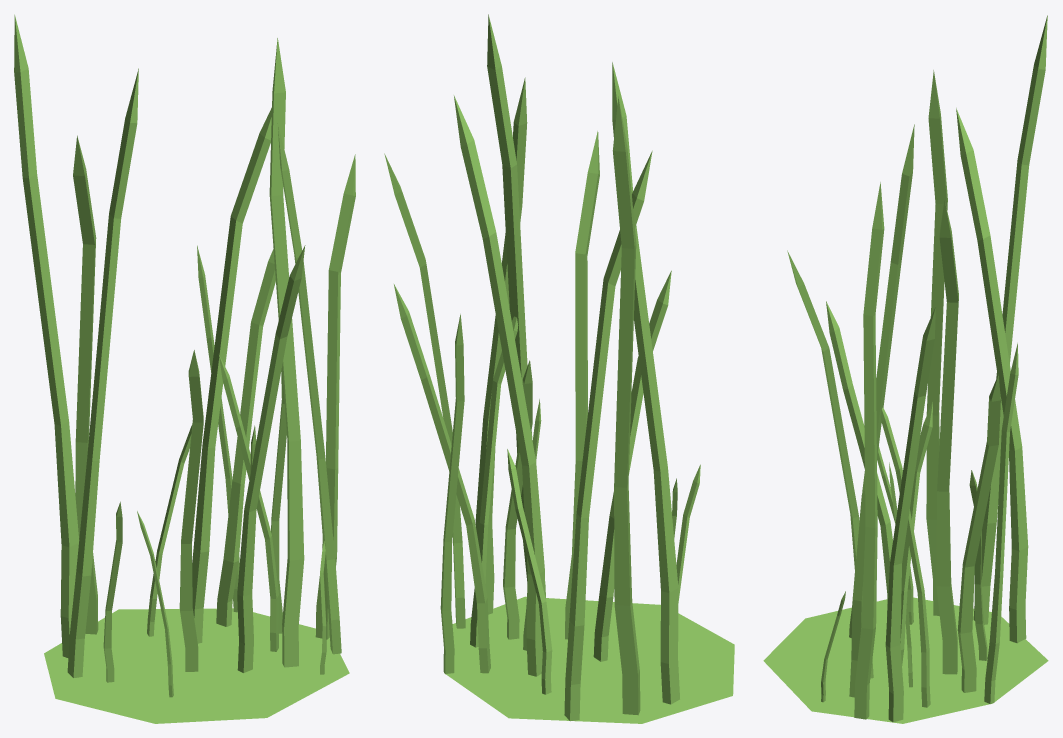
Rendered from grass.fbx.
The picture shows the model from 3 angles, left to right: view 1: azimuth 30°, elevation 25°; view 2: azimuth 150°, elevation 25°; view 3: azimuth 270°, elevation 25°; orthographic projection. The views are drawn at different scales.
Parts seen in each view (by area): view 1: Plane, Plane|gr.001|Dupli|5.0.0.0.0.0.0.0.0.0, Plane|gr.001|Dupli|17.0.0.0.0.0.0.0.0.0, Plane|gr.001|Dupli|2.0.0.0.0.0.0.0.0.0, Plane|gr.002|Dupli|10.0.0.0.0.0.0.0.0.0, Plane|gr.002|Dupli|13.0.0.0.0.0.0.0.0.0, Plane|gr.002|Dupli|4.0.0.0.0.0.0.0.0.0, Plane|gr.002|Dupli|16.0.0.0.0.0.0.0.0.0, Plane|gr|Dupli|9.0.0.0.0.0.0.0.0.0, Plane|gr.001|Dupli|14.0.0.0.0.0.0.0.0.0, Plane|gr|Dupli|0.0.0.0.0.0.0.0.0.0, Plane|gr|Dupli|12.0.0.0.0.0.0.0.0.0 (+6 smaller); view 2: Plane, Plane|gr.001|Dupli|5.0.0.0.0.0.0.0.0.0, Plane|gr.002|Dupli|10.0.0.0.0.0.0.0.0.0, Plane|gr.001|Dupli|2.0.0.0.0.0.0.0.0.0, Plane|gr.002|Dupli|4.0.0.0.0.0.0.0.0.0, Plane|gr.001|Dupli|17.0.0.0.0.0.0.0.0.0, Plane|gr.002|Dupli|13.0.0.0.0.0.0.0.0.0, Plane|gr|Dupli|9.0.0.0.0.0.0.0.0.0, Plane|gr.001|Dupli|14.0.0.0.0.0.0.0.0.0, Plane|gr.002|Dupli|16.0.0.0.0.0.0.0.0.0, Plane|gr.001|Dupli|8.0.0.0.0.0.0.0.0.0, Plane|gr|Dupli|0.0.0.0.0.0.0.0.0.0 (+4 smaller); view 3: Plane, Plane|gr.002|Dupli|4.0.0.0.0.0.0.0.0.0, Plane|gr.001|Dupli|14.0.0.0.0.0.0.0.0.0, Plane|gr.002|Dupli|10.0.0.0.0.0.0.0.0.0, Plane|gr.001|Dupli|5.0.0.0.0.0.0.0.0.0, Plane|gr.002|Dupli|16.0.0.0.0.0.0.0.0.0, Plane|gr.001|Dupli|2.0.0.0.0.0.0.0.0.0, Plane|gr.001|Dupli|17.0.0.0.0.0.0.0.0.0, Plane|gr|Dupli|9.0.0.0.0.0.0.0.0.0, Plane|gr.001|Dupli|8.0.0.0.0.0.0.0.0.0, Plane|gr.002|Dupli|13.0.0.0.0.0.0.0.0.0, Plane|gr|Dupli|0.0.0.0.0.0.0.0.0.0 (+6 smaller).
Boxes of the visible parts, box(x1,y1,x2,y2) form: Plane: box(44, 608, 349, 723); Plane|gr.001|Dupli|5.0.0.0.0.0.0.0.0.0: box(14, 14, 79, 657); Plane|gr.001|Dupli|17.0.0.0.0.0.0.0.0.0: box(269, 38, 304, 667); Plane|gr.001|Dupli|2.0.0.0.0.0.0.0.0.0: box(67, 68, 138, 678); Plane|gr.002|Dupli|10.0.0.0.0.0.0.0.0.0: box(192, 107, 271, 643); Plane|gr.002|Dupli|13.0.0.0.0.0.0.0.0.0: box(237, 245, 305, 672); Plane|gr.002|Dupli|4.0.0.0.0.0.0.0.0.0: box(73, 135, 98, 634); Plane|gr.002|Dupli|16.0.0.0.0.0.0.0.0.0: box(315, 154, 355, 639); Plane|gr|Dupli|9.0.0.0.0.0.0.0.0.0: box(216, 249, 275, 626); Plane|gr.001|Dupli|14.0.0.0.0.0.0.0.0.0: box(277, 123, 341, 654); Plane|gr|Dupli|0.0.0.0.0.0.0.0.0.0: box(179, 350, 203, 671); Plane|gr|Dupli|12.0.0.0.0.0.0.0.0.0: box(219, 355, 278, 651); Plane: box(444, 596, 734, 723); Plane|gr.001|Dupli|5.0.0.0.0.0.0.0.0.0: box(612, 96, 640, 715); Plane|gr.002|Dupli|10.0.0.0.0.0.0.0.0.0: box(454, 95, 544, 676); Plane|gr.001|Dupli|2.0.0.0.0.0.0.0.0.0: box(612, 62, 679, 704); Plane|gr.002|Dupli|4.0.0.0.0.0.0.0.0.0: box(564, 150, 652, 721); Plane|gr.001|Dupli|17.0.0.0.0.0.0.0.0.0: box(487, 14, 545, 598); Plane|gr.002|Dupli|13.0.0.0.0.0.0.0.0.0: box(565, 131, 599, 639); Plane|gr|Dupli|9.0.0.0.0.0.0.0.0.0: box(394, 284, 490, 673); Plane|gr.001|Dupli|14.0.0.0.0.0.0.0.0.0: box(475, 77, 527, 614); Plane|gr.002|Dupli|16.0.0.0.0.0.0.0.0.0: box(384, 153, 465, 628); Plane|gr.001|Dupli|8.0.0.0.0.0.0.0.0.0: box(440, 314, 464, 673); Plane|gr|Dupli|0.0.0.0.0.0.0.0.0.0: box(593, 270, 671, 661); Plane: box(763, 597, 1048, 723); Plane|gr.002|Dupli|4.0.0.0.0.0.0.0.0.0: box(956, 108, 1028, 643); Plane|gr.001|Dupli|14.0.0.0.0.0.0.0.0.0: box(854, 182, 884, 719); Plane|gr.002|Dupli|10.0.0.0.0.0.0.0.0.0: box(936, 200, 958, 674); Plane|gr.001|Dupli|5.0.0.0.0.0.0.0.0.0: box(973, 15, 1047, 624); Plane|gr.002|Dupli|16.0.0.0.0.0.0.0.0.0: box(885, 306, 935, 722); Plane|gr.001|Dupli|2.0.0.0.0.0.0.0.0.0: box(926, 70, 947, 615); Plane|gr.001|Dupli|17.0.0.0.0.0.0.0.0.0: box(849, 124, 914, 697); Plane|gr|Dupli|9.0.0.0.0.0.0.0.0.0: box(957, 374, 1000, 692); Plane|gr.001|Dupli|8.0.0.0.0.0.0.0.0.0: box(984, 343, 1018, 703); Plane|gr.002|Dupli|13.0.0.0.0.0.0.0.0.0: box(787, 250, 873, 678); Plane|gr|Dupli|0.0.0.0.0.0.0.0.0.0: box(826, 301, 892, 616).
Size of the model in its own units: 123 by 231 by 99.91.
